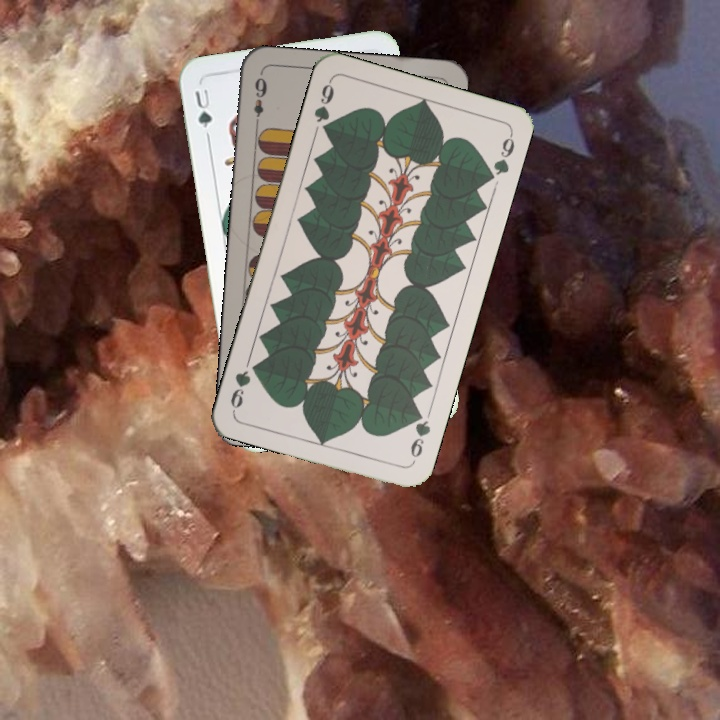E9: (249, 73, 270, 130)
G9: (310, 76, 337, 137), (406, 405, 433, 465)
GU: (190, 85, 214, 131)
